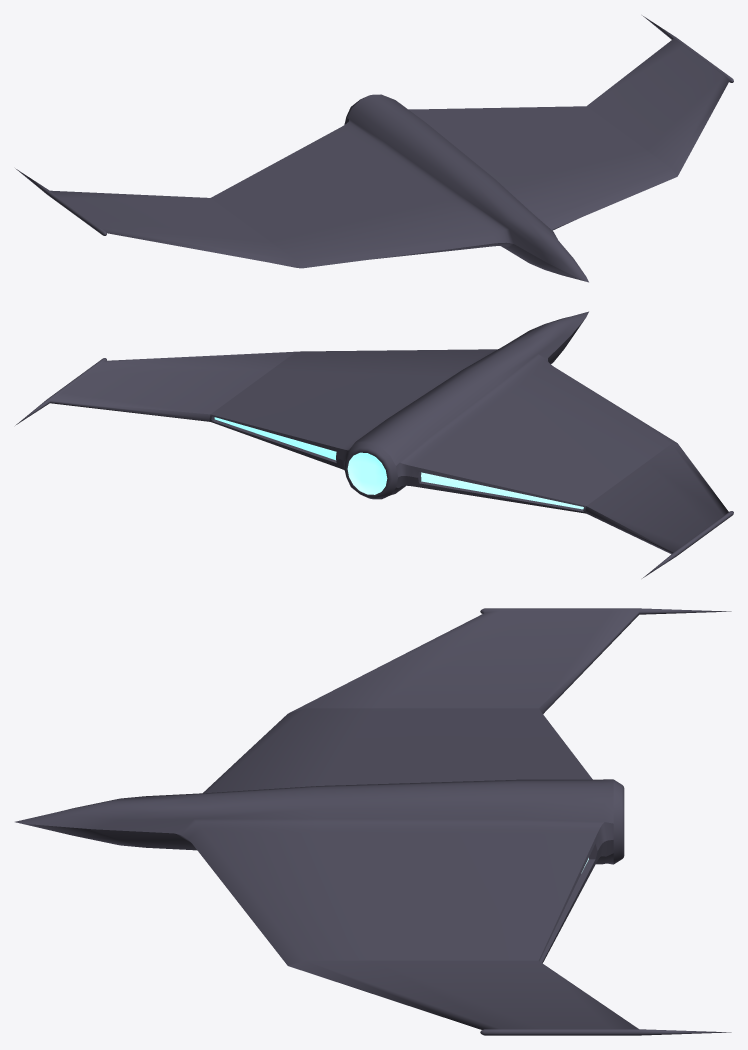
File: spaceship5.fbx
3 views of the same model, one above another, from view 1: azimuth 30°, elevation 25°; view 2: azimuth 150°, elevation 25°; view 3: azimuth 270°, elevation 25° (orthographic). The views are drawn at different scales.
Visible parts, largest first — view 1: ship5; view 2: ship5; view 3: ship5.
Part boxes in pixels (x1=…): ship5: x1=15, y1=15, x2=733, y2=282; ship5: x1=15, y1=311, x2=733, y2=578; ship5: x1=15, y1=608, x2=731, y2=1035.
Size of the model in its own units: 8.77 by 0.747 by 6.3.
